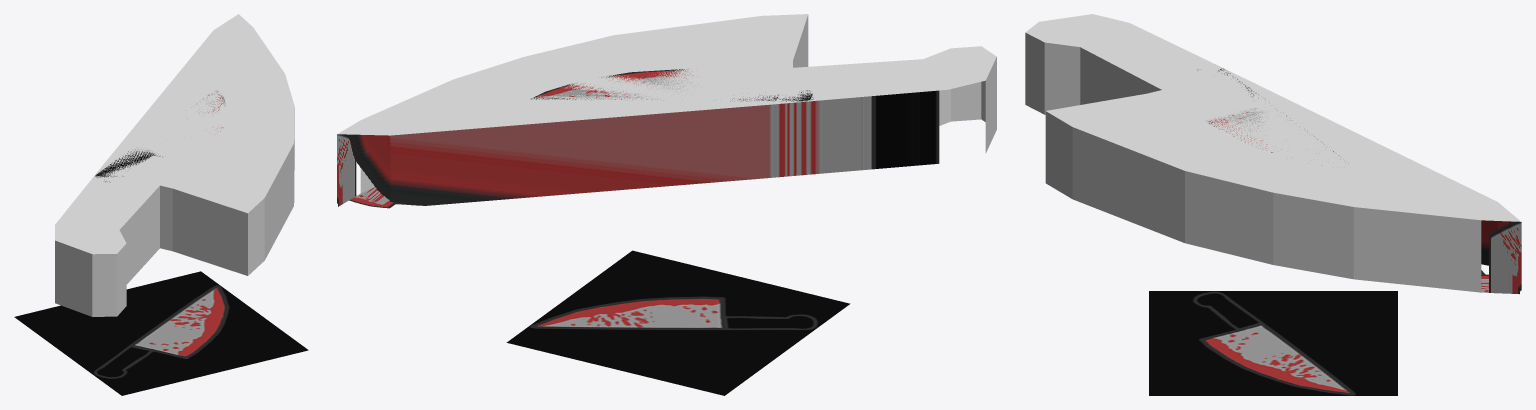
The model's file is KnifeAttempt2.fbx.
3 views of the same model, side by side, from view 1: azimuth 30°, elevation 25°; view 2: azimuth 150°, elevation 25°; view 3: azimuth 270°, elevation 25° (orthographic). The views are drawn at different scales.
Visible parts, largest first — view 1: BloodyKnife, Knife2, Cube; view 2: BloodyKnife, Knife2, Cube; view 3: BloodyKnife, Knife2, Cube.
Part boxes in pixels (x1,y1,x2,y2): BloodyKnife: [55, 14, 294, 316]; Knife2: [14, 271, 308, 395]; Cube: [95, 91, 225, 182]; BloodyKnife: [337, 14, 996, 208]; Knife2: [506, 250, 850, 395]; Cube: [531, 69, 813, 101]; BloodyKnife: [1025, 14, 1521, 294]; Knife2: [1149, 291, 1397, 395]; Cube: [1197, 68, 1338, 157].
Bounding box in the file's own units: 198 × 100 × 199.
